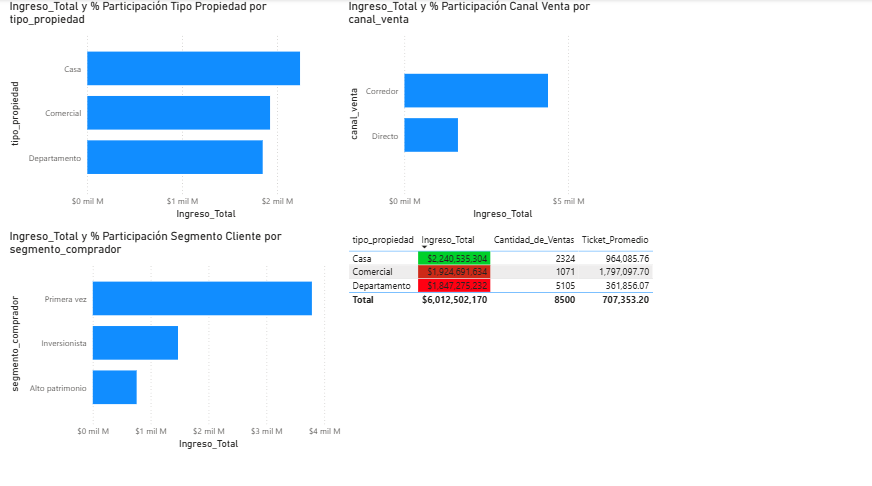

This screenshot's page, from the dashboard's own definition file:
{"tool":"powerbi","page":{"name":"Análisis Comercial","canvas":[1280,720],"ordinal":1},"visuals":[{"type":"barChart","fields":{"Category":["hecho_ventas_propiedades.tipo_propiedad"],"Y":["hecho_ventas_propiedades.Ingreso_Total"]},"box":[10.4,0,495.3,326.8],"z":0},{"type":"barChart","fields":{"Category":["hecho_ventas_propiedades.canal_venta"],"Y":["hecho_ventas_propiedades.Ingreso_Total"]},"box":[505.8,0,403.8,326.8],"z":1},{"type":"barChart","fields":{"Category":["dim_clientes.segmento_comprador"],"Y":["hecho_ventas_propiedades.Ingreso_Total"]},"box":[10,337,495,327],"z":2},{"type":"tableEx","fields":{"Values":["hecho_ventas_propiedades.tipo_propiedad","hecho_ventas_propiedades.Ingreso_Total","hecho_ventas_propiedades.Cantidad_de_Ventas","hecho_ventas_propiedades.Ticket_Promedio"]},"box":[506.3,336.6,538.5,326.3],"z":3}]}

Visuals, with their boxes in screenshot pixels (x1, y1, x2, y2), scaled from the page's 1280x720 canvas onto the 872x486 screenshot:
barChart - hecho_ventas_propiedades.tipo_propiedad x hecho_ventas_propiedades.Ingreso_Total: <region>7, 0, 345, 221</region>
barChart - hecho_ventas_propiedades.canal_venta x hecho_ventas_propiedades.Ingreso_Total: <region>345, 0, 620, 221</region>
barChart - dim_clientes.segmento_comprador x hecho_ventas_propiedades.Ingreso_Total: <region>7, 227, 344, 448</region>
tableEx - hecho_ventas_propiedades.tipo_propiedad x hecho_ventas_propiedades.Ingreso_Total: <region>345, 227, 712, 447</region>
